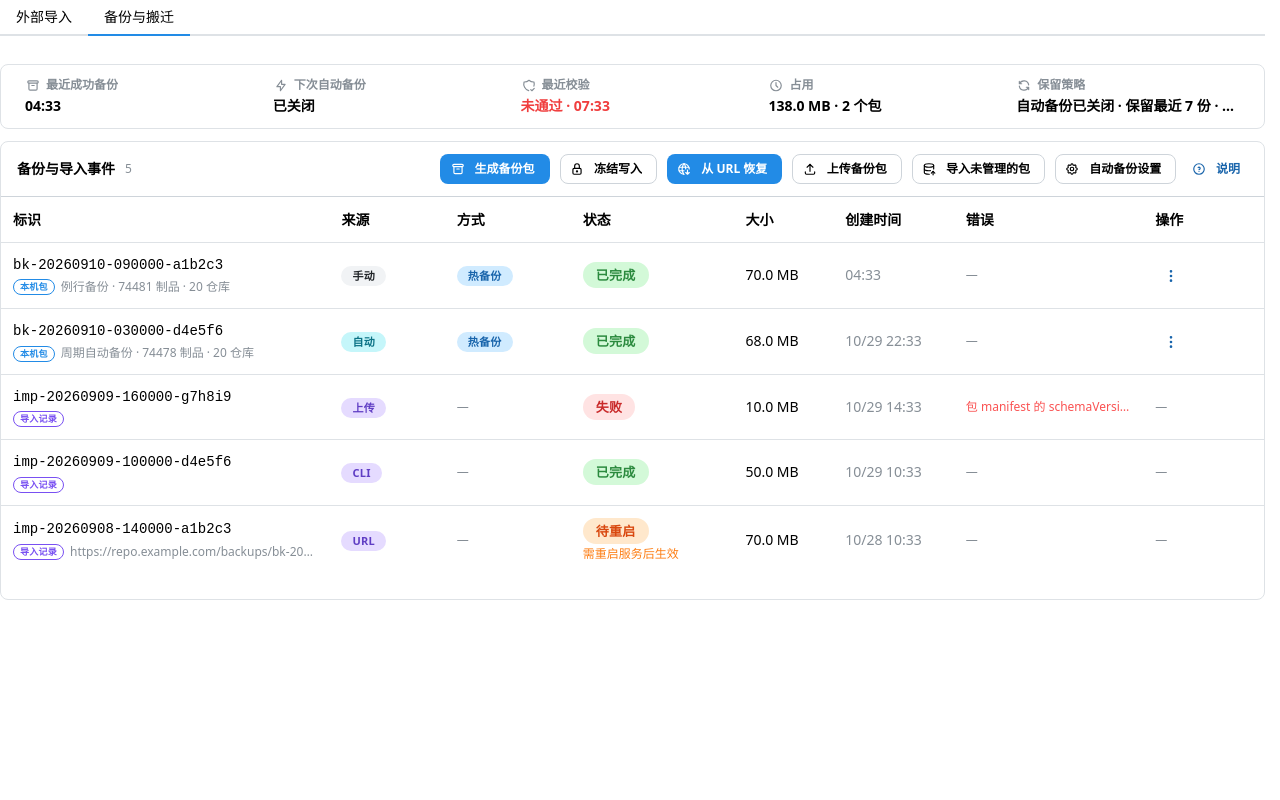
Test case: 备份与搬迁 › 演练入口打开报告弹窗，历史报告列出逐项结论（失败项如实展示）
The width and height of the screenshot is (1280, 800).
Click the button named "更多操作".
click(1171, 276)  # box top-left (1155, 265), bottom-right (1187, 287)
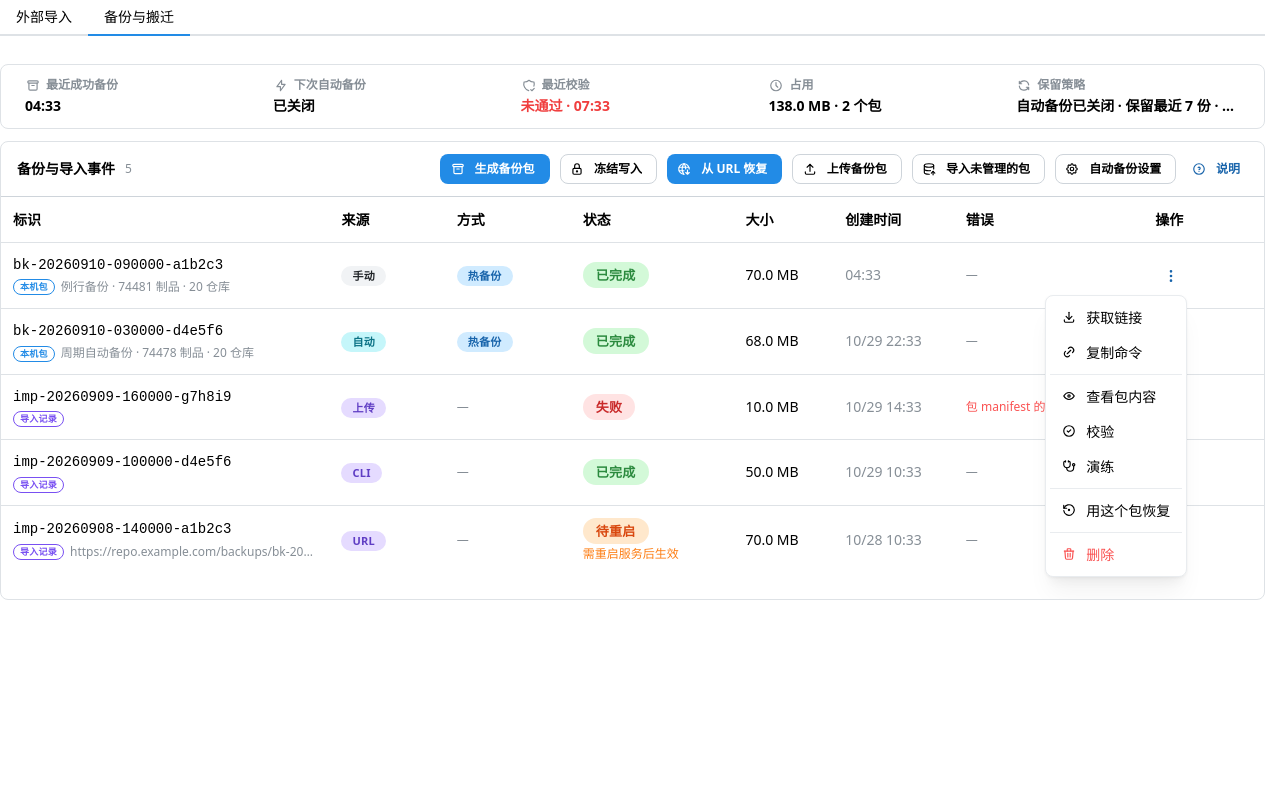
Click the menu item "演练".
click(1116, 466)  # box top-left (1050, 449), bottom-right (1182, 484)
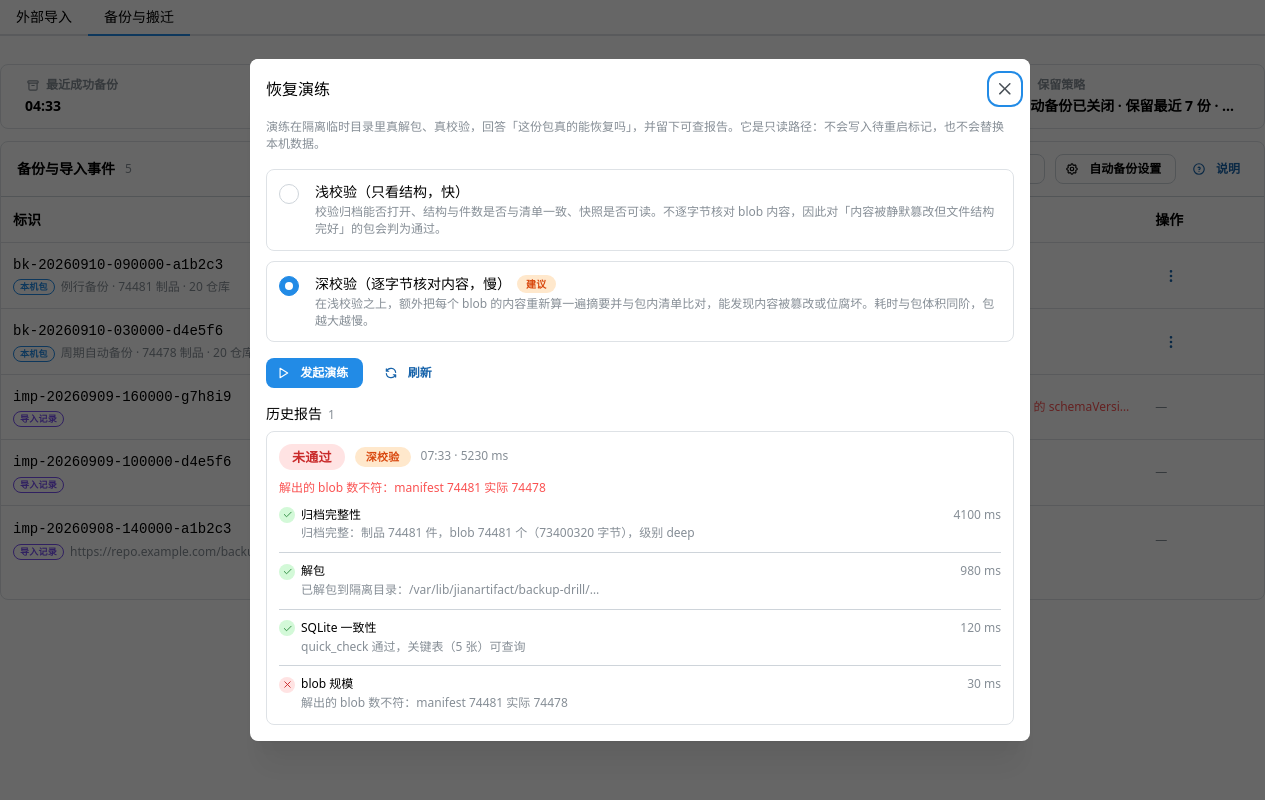
Now the text "不会写入待重启标记" is shown, box top-left (266, 118), bottom-right (1004, 152)
Now the text "浅校验（只看结构，快）" is shown, box top-left (315, 182), bottom-right (469, 201)
Now the text "深校验（逐字节核对内容，慢）" is shown, box top-left (315, 274), bottom-right (511, 294)
